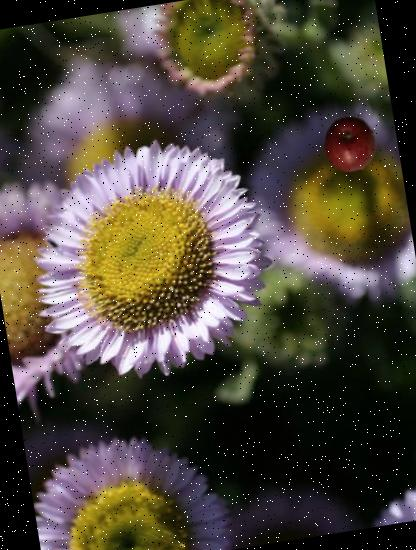Apple: (318, 112, 382, 176)
